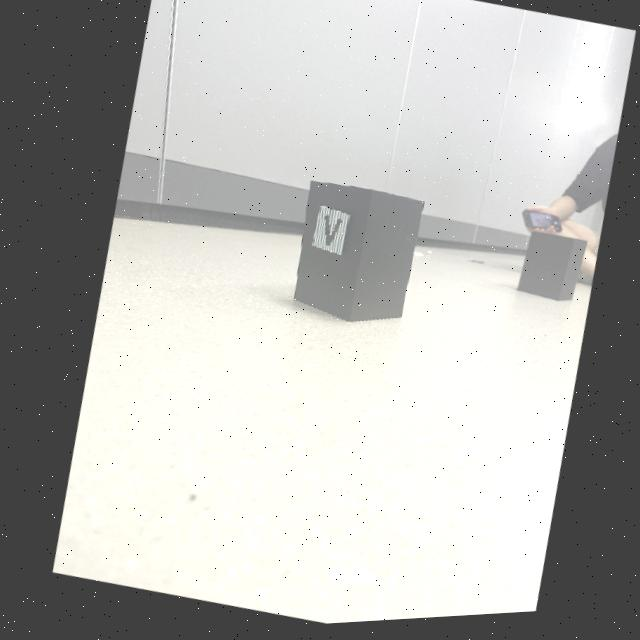V: (321, 219, 337, 250)
